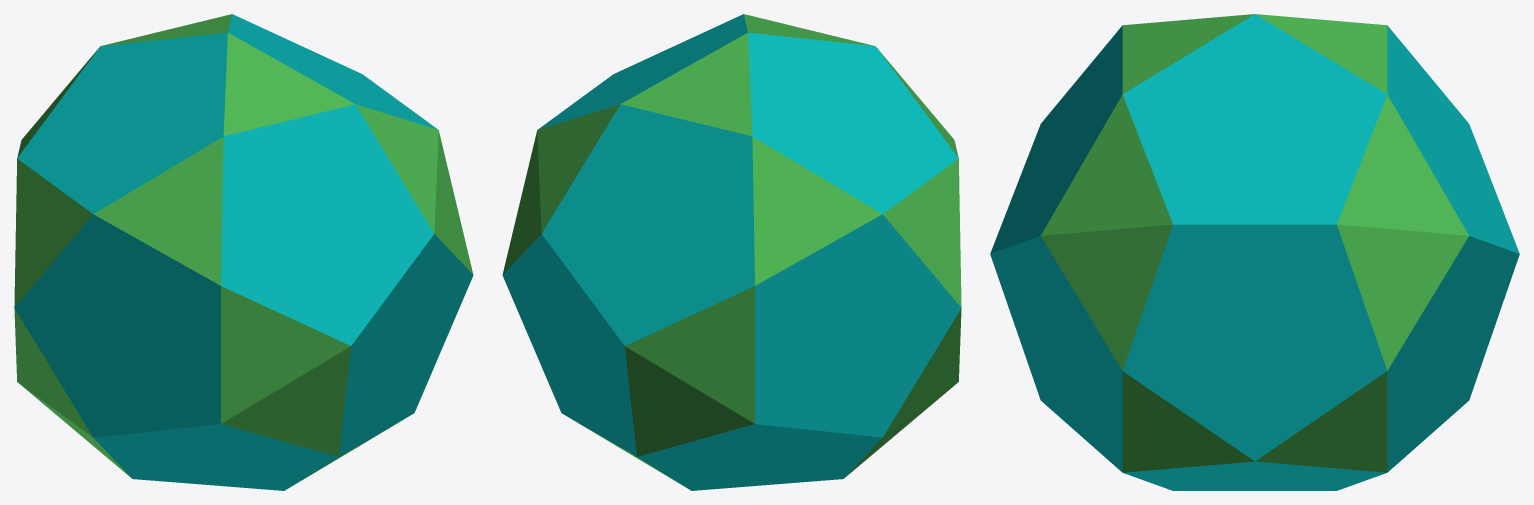
File: J34.OrtobirrotondaPentagonal.gltf
3 renders of one model, left to right at view 1: azimuth 30°, elevation 25°; view 2: azimuth 150°, elevation 25°; view 3: azimuth 270°, elevation 25°, orthographic. The views are drawn at different scales.
Parts seen in each view (by area): view 1: J34.OrtobirrotondaPentagonal; view 2: J34.OrtobirrotondaPentagonal; view 3: J34.OrtobirrotondaPentagonal.
Boxes of the visible parts, box(x1,y1,x2,y2) form: J34.OrtobirrotondaPentagonal: box(14, 14, 473, 490); J34.OrtobirrotondaPentagonal: box(502, 14, 961, 490); J34.OrtobirrotondaPentagonal: box(990, 14, 1519, 490).
Bounding box in the file's own units: 18.94 × 19.47 × 20.
